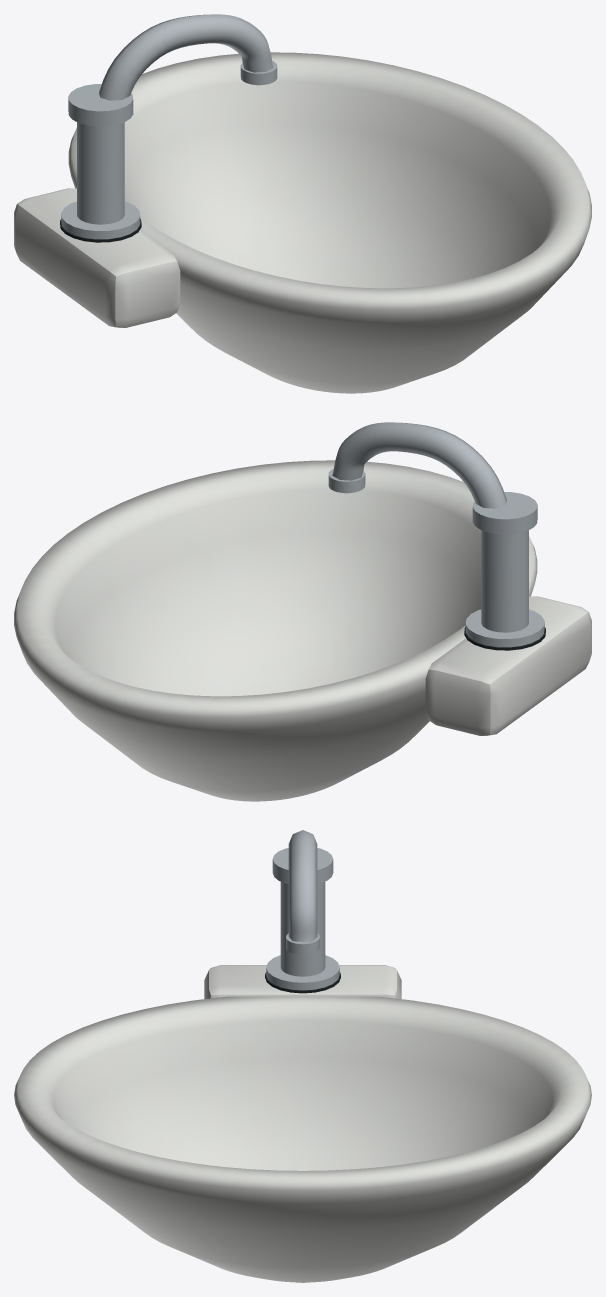
File: cuba_torneira_realista.glb
3 renders of one model, top to bottom at view 1: azimuth 30°, elevation 25°; view 2: azimuth 150°, elevation 25°; view 3: azimuth 270°, elevation 25°, orthographic. The views are drawn at different scales.
Parts seen in each view (by area): view 1: Cuba_torneira; view 2: Cuba_torneira; view 3: Cuba_torneira.
Boxes of the visible parts, x1,y1,x2,y2 form: Cuba_torneira: (14, 14, 591, 393); Cuba_torneira: (14, 422, 591, 801); Cuba_torneira: (14, 830, 591, 1282).
Bounding box in the file's own units: 0.3916 × 0.3 × 0.44.
1 material, 1 textured.
